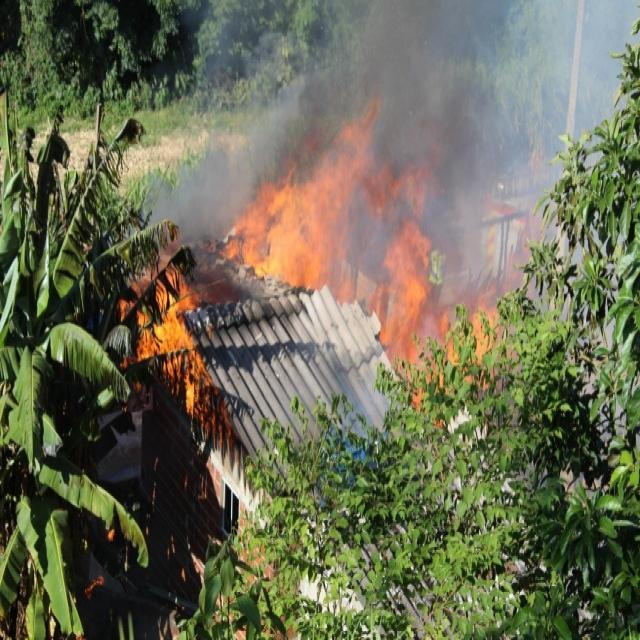Fire: (218, 96, 431, 377), (98, 260, 229, 440), (445, 282, 504, 374)
Smoke: (117, 11, 609, 260), (120, 58, 298, 225)
